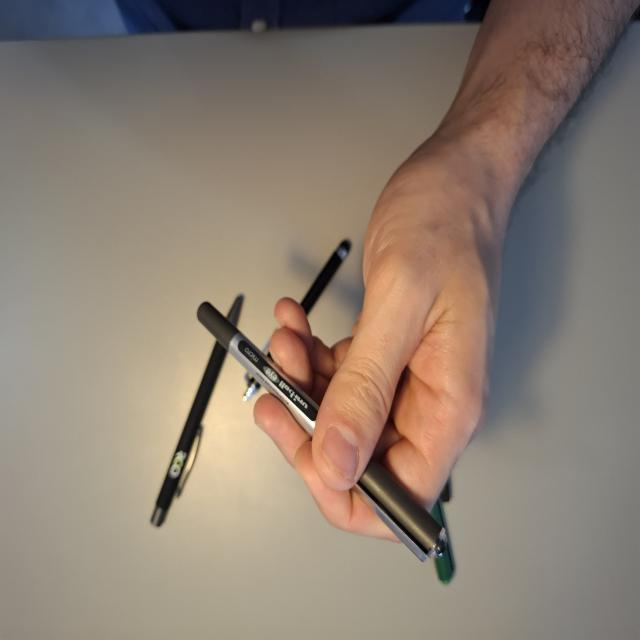glove_off: (250, 131, 508, 548)
